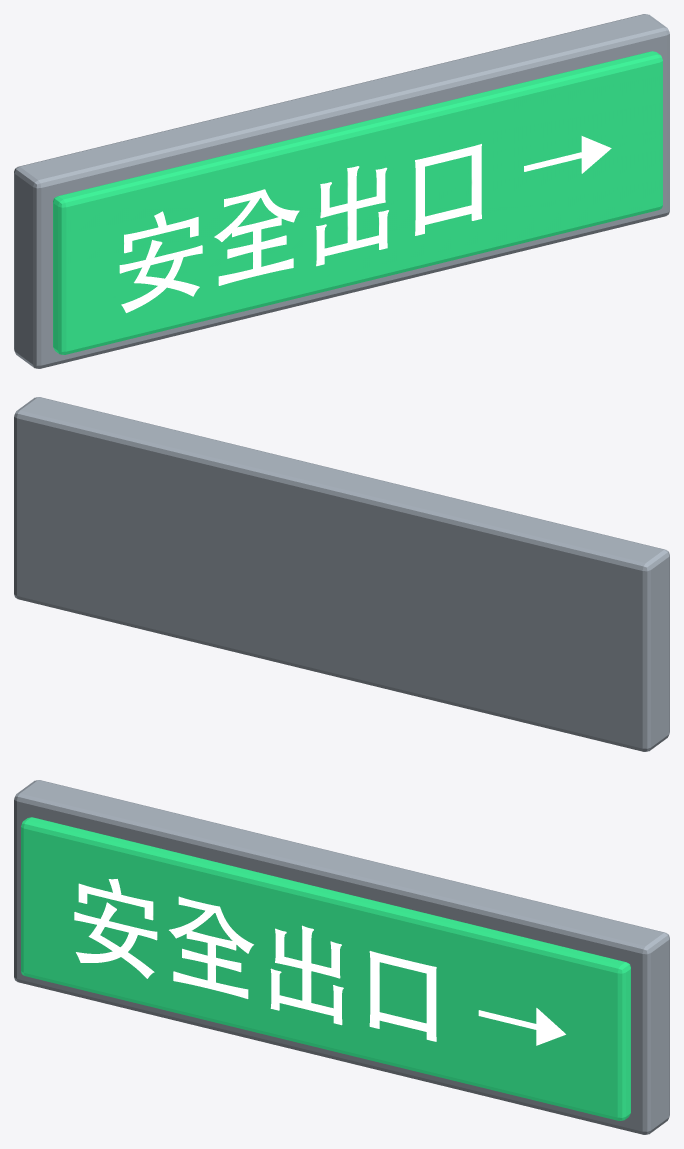
Rendered from escape-sign-right.glb.
The picture shows the model from 3 angles, top to bottom: view 1: azimuth 30°, elevation 25°; view 2: azimuth 150°, elevation 25°; view 3: azimuth 330°, elevation 25°; orthographic projection.
Visible parts, largest first — view 1: Green face, Exit housing, Exit lettering; view 2: Exit housing; view 3: Green face, Exit housing, Exit lettering.
Boxes of the visible parts, x1,y1,x2,y2 form: Green face: [53, 51, 662, 354]; Exit housing: [14, 14, 669, 368]; Exit lettering: [119, 136, 611, 312]; Exit housing: [14, 397, 669, 751]; Green face: [21, 817, 630, 1120]; Exit housing: [14, 780, 669, 1134]; Exit lettering: [74, 879, 565, 1045].
Bounding box in the file's own units: 1.2 × 0.34 × 0.115.
